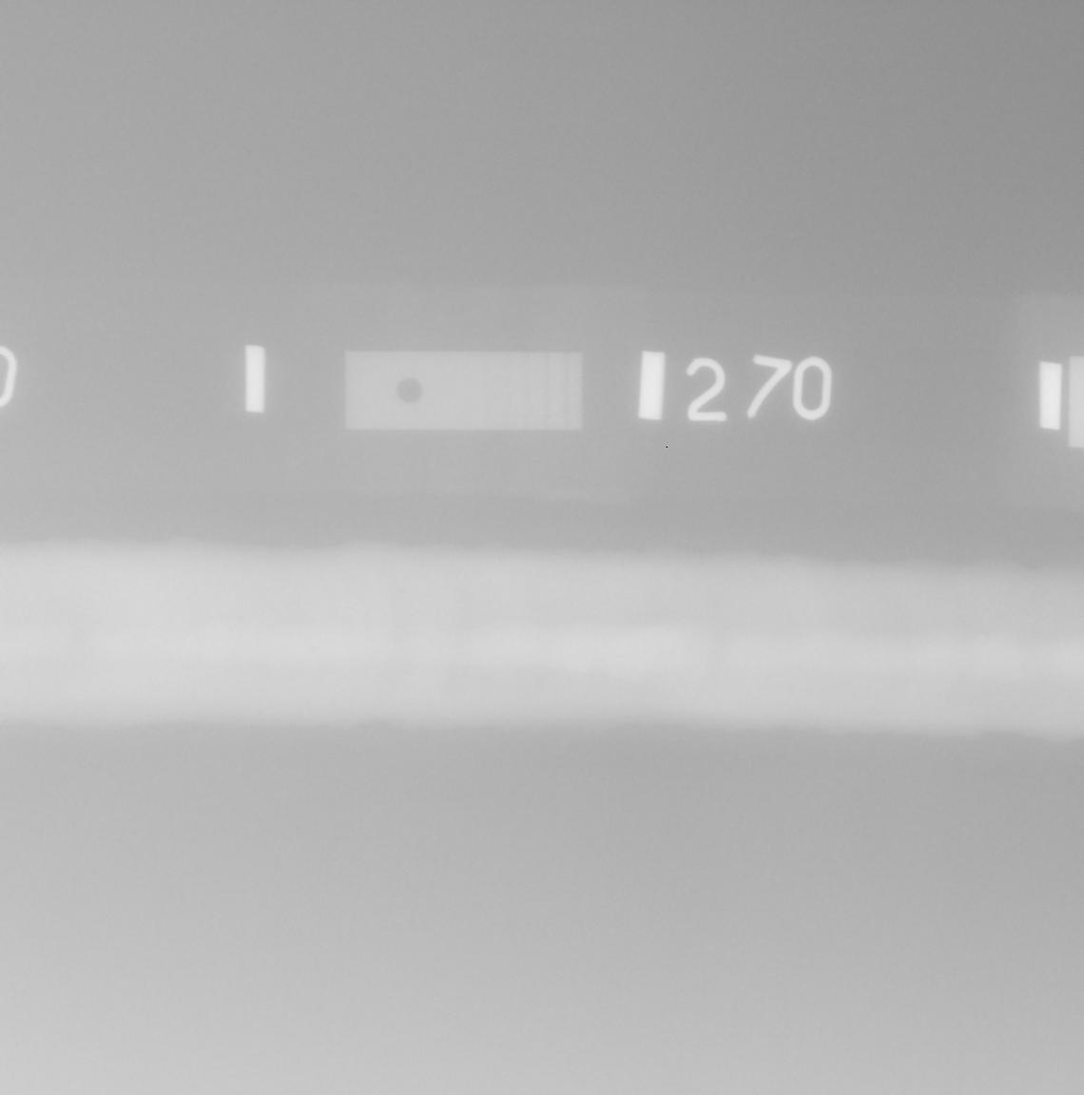Inclusion: (308, 646, 318, 653), (72, 624, 75, 629)
Pore/Porosity: (239, 616, 246, 622)
Reference Standard 1: (345, 351, 583, 431)
